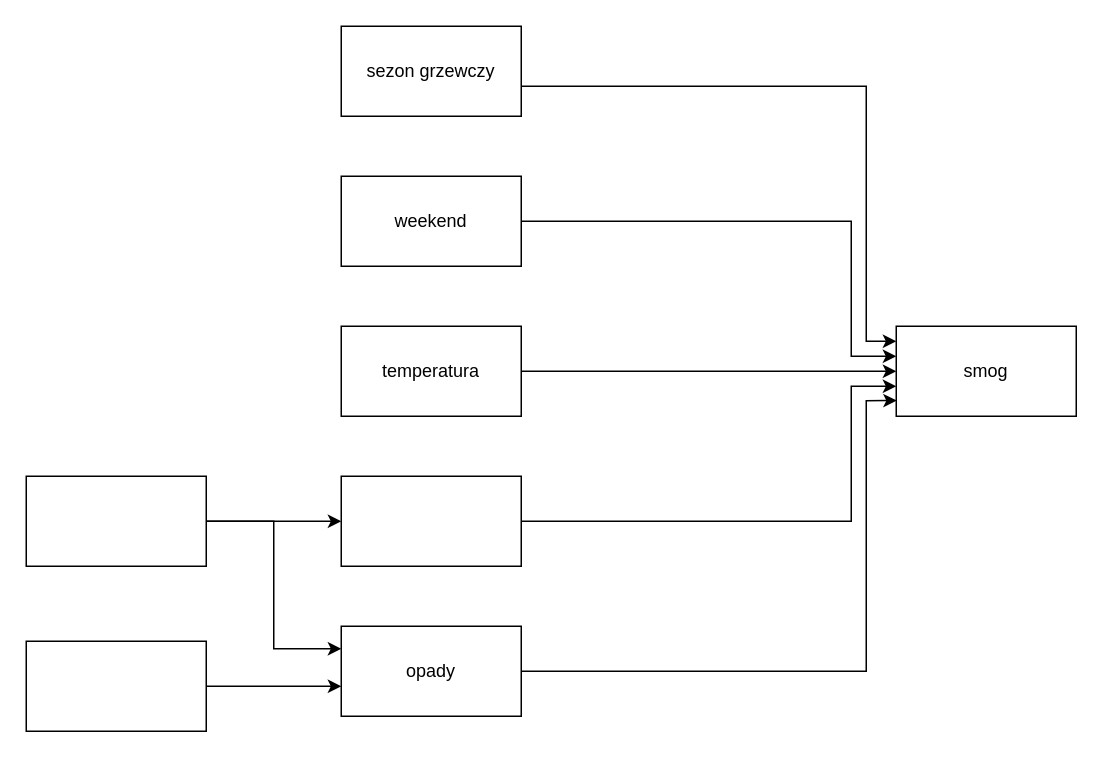
The diagram is 1103 pixels wide and 758 high, and some of its shapes have lost their labels. The centre of each missing label's shape, as x and y in pixels:
"ciśnienie" belongs at pixel 115 520.
"prędkość wiatru" belongs at pixel 430 520.
"wilgotność" belongs at pixel 115 685.
